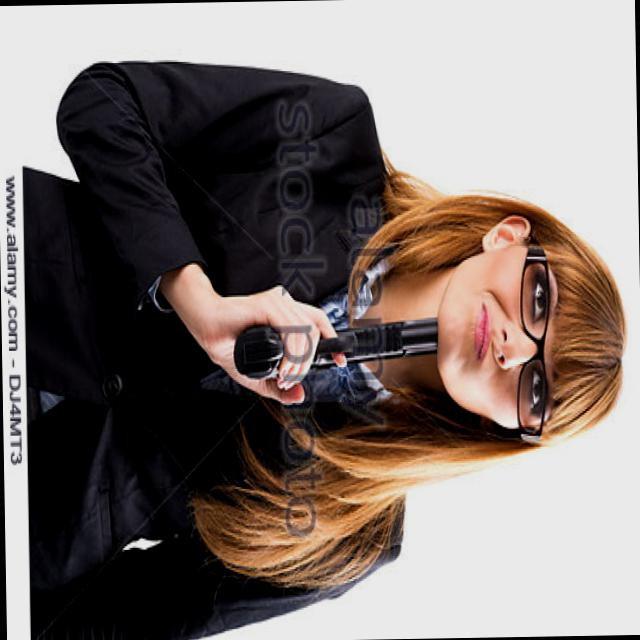handgun: (236, 314, 438, 378)
